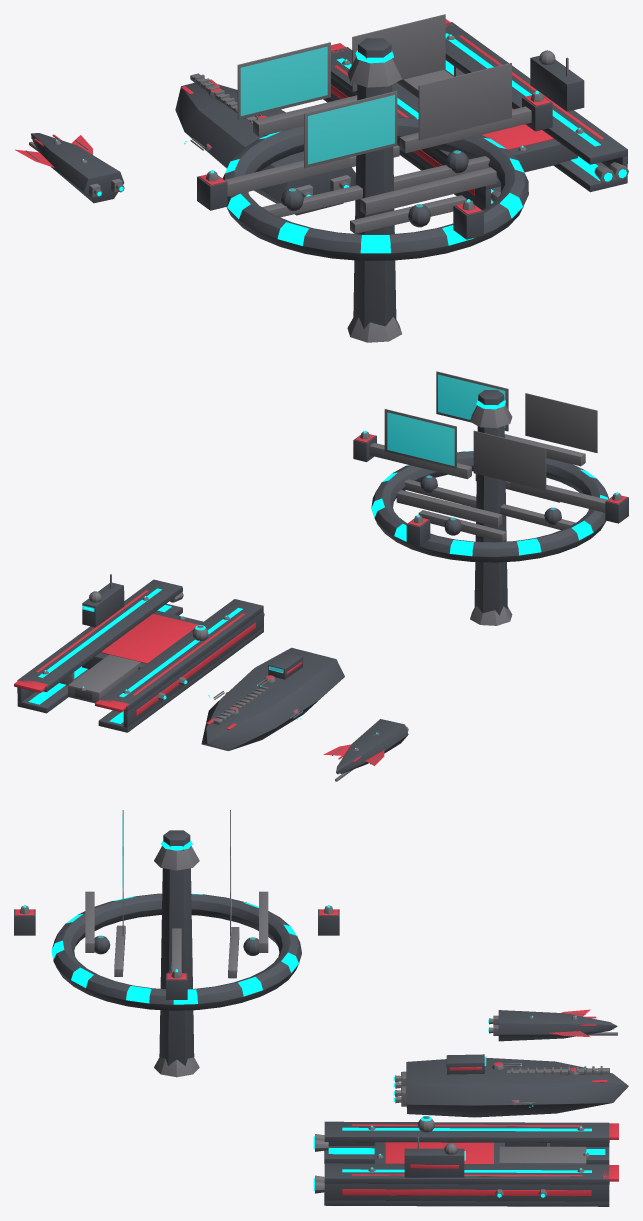
Rendered from Enemy_Fleet_Updated.glb.
The picture shows the model from 3 angles, top to bottom: view 1: azimuth 30°, elevation 25°; view 2: azimuth 150°, elevation 25°; view 3: azimuth 270°, elevation 25°; orthographic projection. The views are drawn at different scales.
Visible parts, largest first — view 1: Vessel_Station_01, Station_Habitat_Ring, Vessel_Carrier_01, Vessel_Destroyer_01, Vessel_Frigate_01; view 2: Vessel_Station_01, Vessel_Carrier_01, Station_Habitat_Ring, Vessel_Destroyer_01, Vessel_Frigate_01; view 3: Vessel_Carrier_01, Station_Habitat_Ring, Vessel_Destroyer_01, Vessel_Station_01, Vessel_Frigate_01.
Boxes of the visible parts, x1,y1,x2,y2 form: Vessel_Station_01: (197, 14, 552, 342); Station_Habitat_Ring: (222, 117, 528, 260); Vessel_Carrier_01: (323, 19, 628, 210); Vessel_Destroyer_01: (175, 73, 355, 215); Vessel_Frigate_01: (15, 133, 124, 203); Vessel_Station_01: (353, 371, 628, 625); Vessel_Carrier_01: (14, 574, 264, 732); Station_Habitat_Ring: (371, 451, 608, 562); Vessel_Destroyer_01: (201, 647, 344, 750); Vessel_Frigate_01: (323, 719, 408, 781); Vessel_Carrier_01: (313, 1115, 618, 1206); Station_Habitat_Ring: (51, 893, 301, 1010); Vessel_Destroyer_01: (393, 1054, 628, 1117); Vessel_Station_01: (14, 810, 339, 1077); Vessel_Frigate_01: (488, 1009, 617, 1041).
Size of the model in its own units: 181 by 96.34 by 227.
